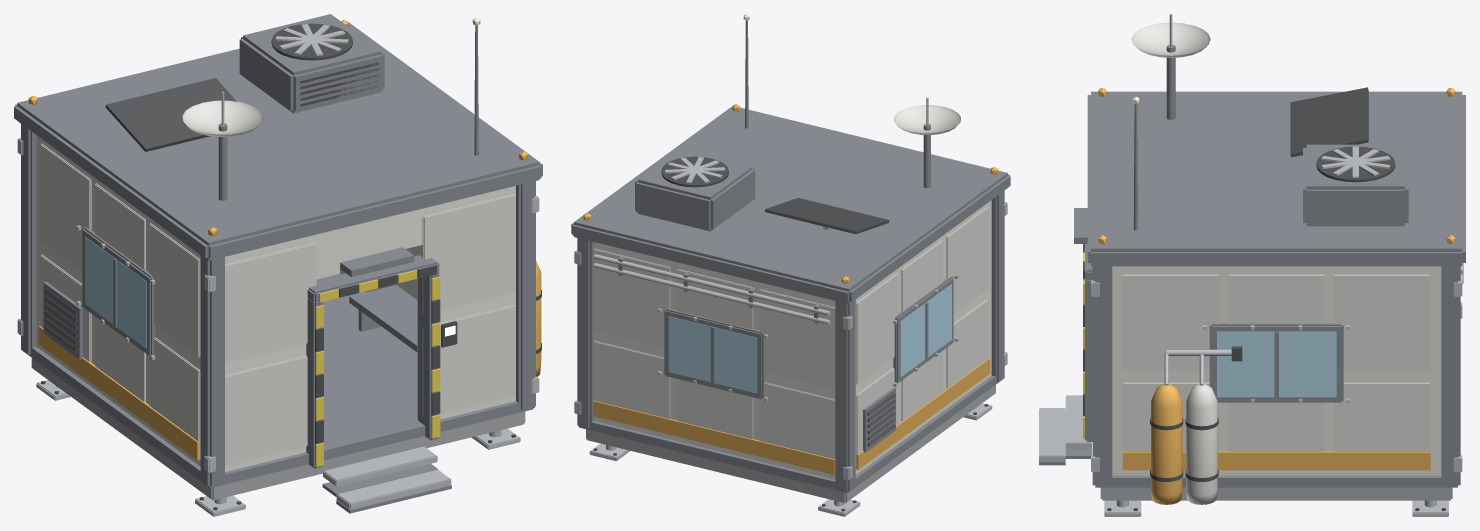
Rendered from base_module.fbx.
The picture shows the model from 3 angles, left to right: view 1: azimuth 30°, elevation 25°; view 2: azimuth 150°, elevation 25°; view 3: azimuth 270°, elevation 25°; orthographic projection. The views are drawn at different scales.
Parts seen in each view (by area): view 1: base_module; view 2: base_module; view 3: base_module.
Boxes of the visible parts, x1=… form: base_module: x1=14, y1=14, x2=542, y2=516; base_module: x1=571, y1=14, x2=1010, y2=516; base_module: x1=1039, y1=14, x2=1465, y2=516.
Size of the model in its own units: 4.76 by 5.11 by 4.85.
